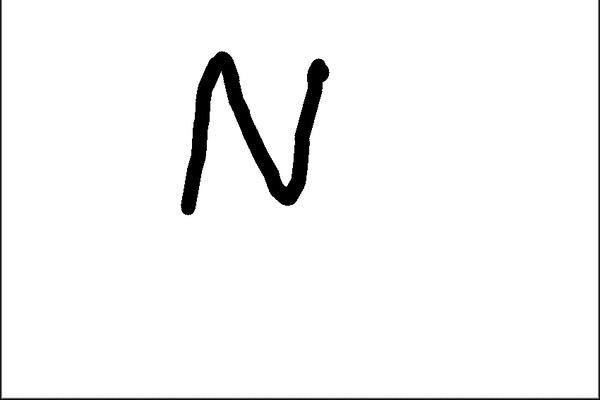N: (175, 48, 334, 221)
